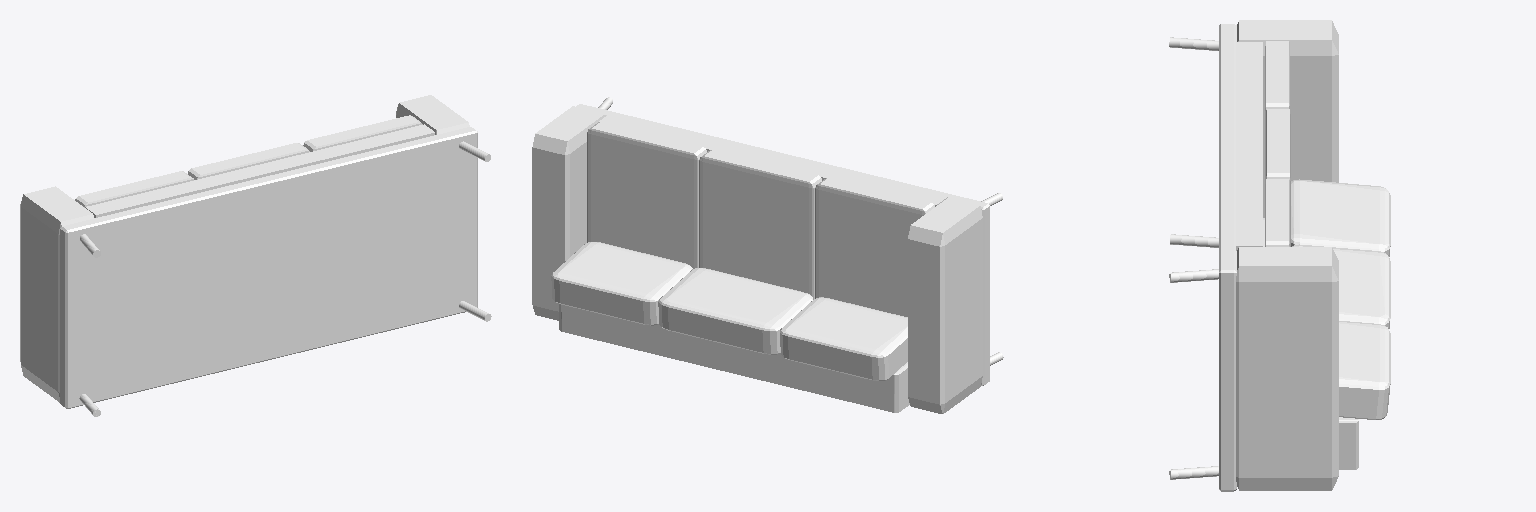
URDF robot description (simple_couch2.obj):
<robot name="simple_couch2.obj">
	<link name="_name">
		<visual>
			<origin xyz="0 0 0" rpy="0 0 0" />
			<geometry>
				<mesh filename="simple_couch2.obj" scale="1.0 1.0 1.0" />
			</geometry>
			<material name="texture">
				<color rgba="1.0 1.0 1.0 1.0" />
			</material>
		</visual>
		<collision>
			<geometry>
				<mesh filename="simple_couch2_vhacd.obj" scale="1.0 1.0 1.0" />
			</geometry>
		</collision>
		<inertial>
			<mass value="1.0" />
			<inertia ixx="1.0" ixy="0.0" ixz="0.0" iyy="1.0" iyz="0.0" izz="1.0" />
		</inertial>
	</link>
</robot>

--- Facts derived from the render (not from the file) ---
Views: 3 orthographic renders of the robot side by side, from view 1: azimuth 30°, elevation 25°; view 2: azimuth 150°, elevation 25°; view 3: azimuth 270°, elevation 25°.
Robot: simple_couch2.obj — 1 links, 0 joints (none); root link _name; default pose: all joints at 0.
Links seen in each view (by area): view 1: _name; view 2: _name; view 3: _name.
Link boxes in pixels (x1,y1,x2,y2): _name: (20,95,491,416); _name: (532,97,1003,413); _name: (1169,20,1390,491).
Size in the robot's own frame: 2 by 0.7519 by 0.8519 metres.
1 mesh visuals loaded from 1 distinct referenced files (1 OBJ).